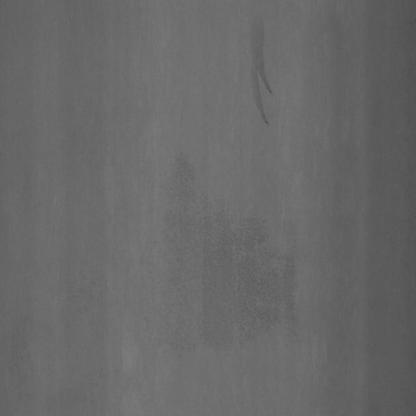water_spot: (248, 29, 279, 135)
